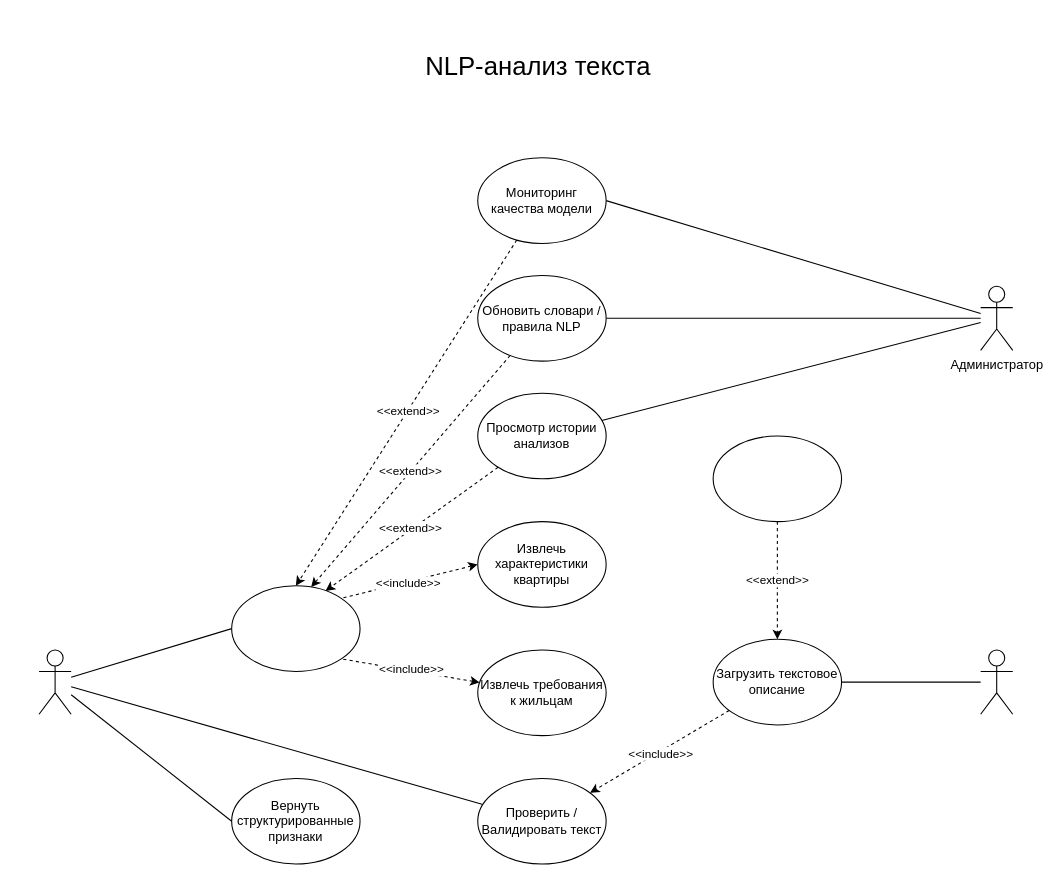
This 1061x883 diagram has some shape labels left out. Here are the shapes that lost their labels. From the top down, the centre of each, then its label:
At [777,478]: "Автогенерация описания (подсказки)".
At [295,628]: "Извлечь структурированные признаки".
At [54,681]: "NLP модель".
At [996,681]: "Арендодатель".
